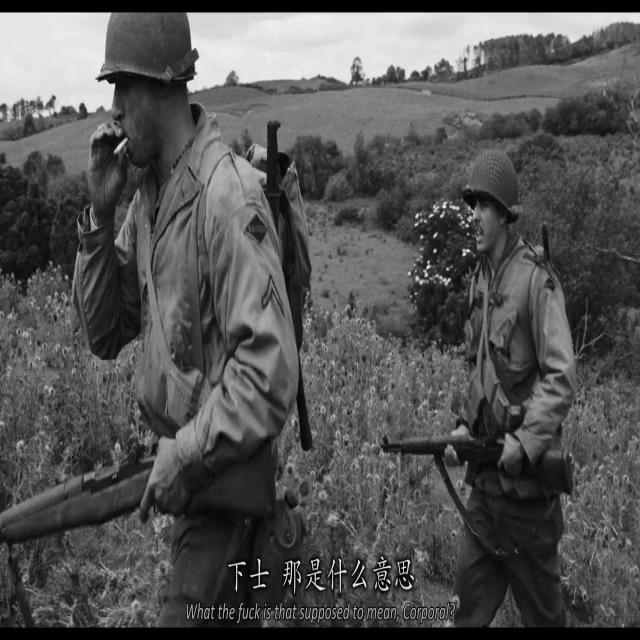Rifle: (0, 421, 283, 564), (378, 441, 578, 462)
